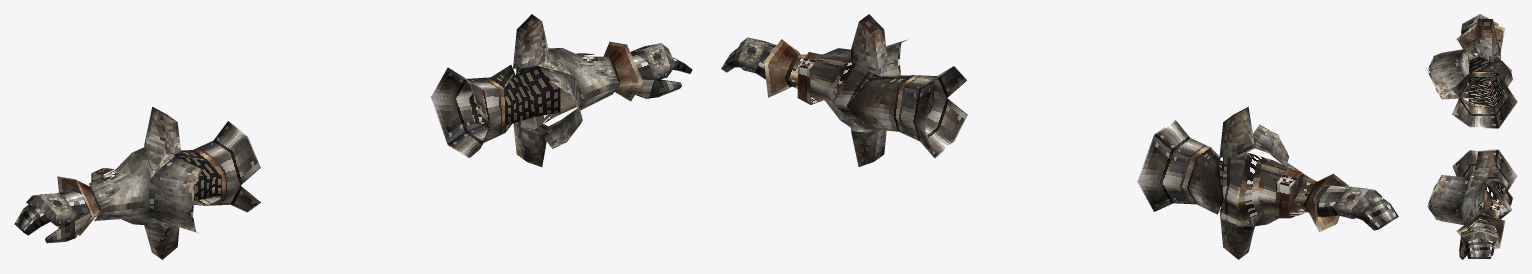
Rendered from m_gauntlet035.obj.
3 views of the same model, side by side, from view 1: azimuth 30°, elevation 25°; view 2: azimuth 150°, elevation 25°; view 3: azimuth 270°, elevation 25° (orthographic). The views are drawn at different scales.
Visible parts, largest first — view 1: mesh00; view 2: mesh00; view 3: mesh00.
Part boxes in pixels (x1,y1,x2,y2): mesh00: (14,14,692,259); mesh00: (721,14,1398,259); mesh00: (1427,14,1517,259).
Bounding box in the file's own units: 179 × 37.38 × 29.34.
1 material, 1 textured.
